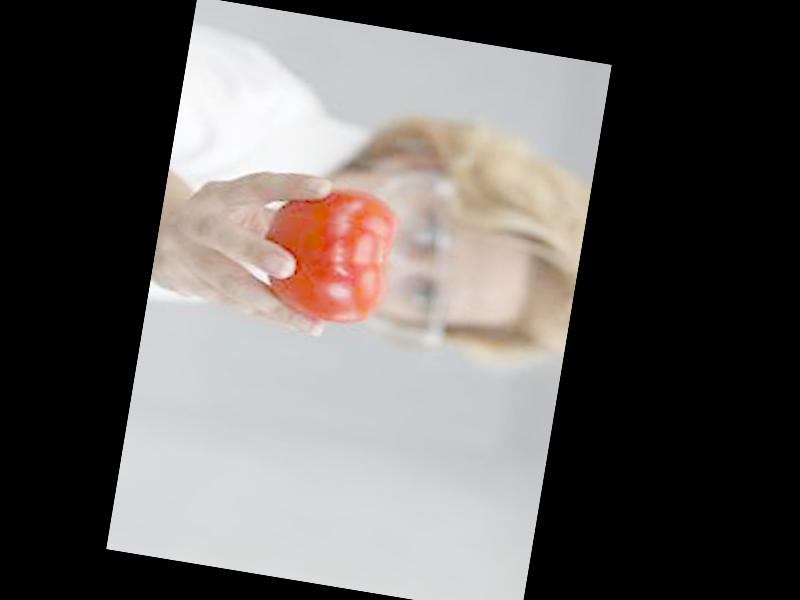Tomato: (257, 174, 400, 328)
